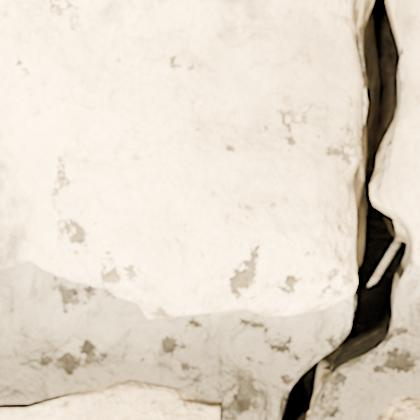brick: (0, 380, 220, 419), (377, 397, 419, 419)
broken_brick: (0, 0, 358, 319), (385, 0, 419, 266)
crack: (274, 0, 417, 419)
